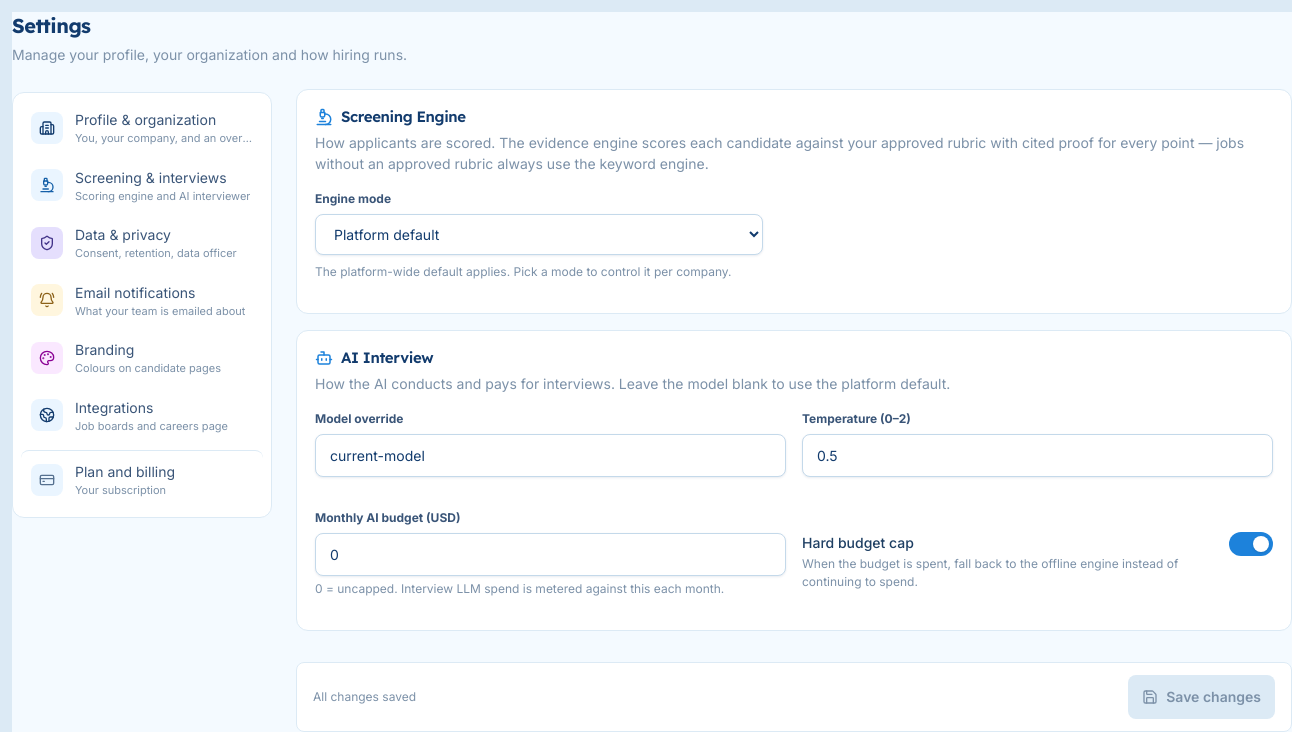
retains drafts across settings sections and saves the original nested contract
Replace the text in the field labelled "Model override" with "edited-model" at (550, 455), box [315,434,786,476]
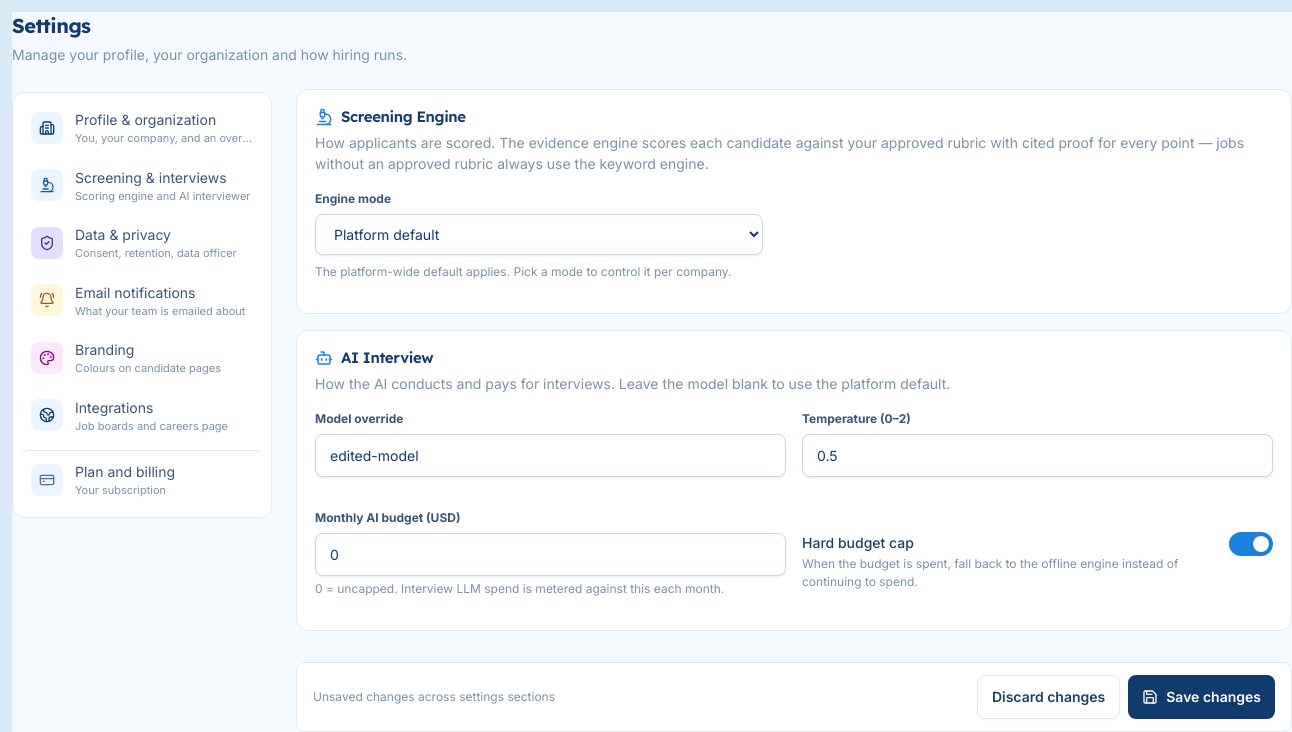
Click the link "Data & privacy".
click(142, 243)  # box [21,216,263,270]
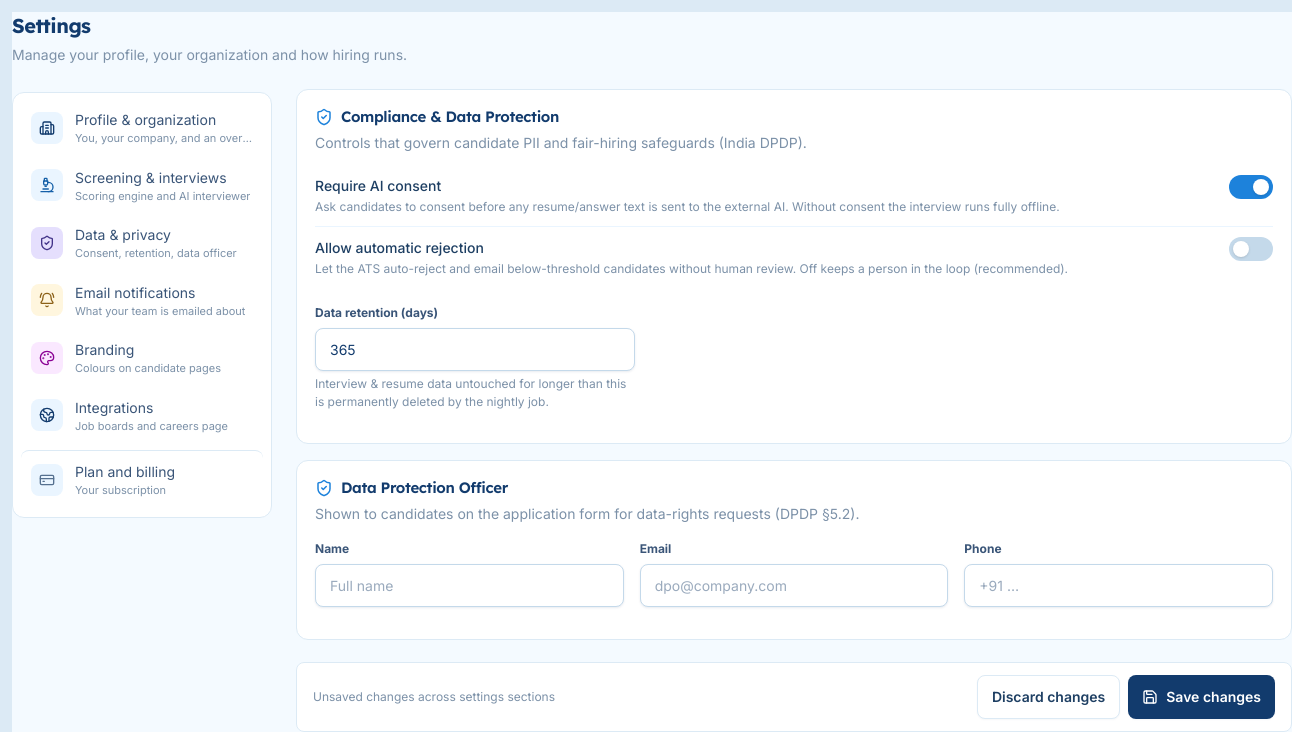
Now the message shows "Unsaved changes", box [313,689,555,704]
Now the label "Model override" is gone
Click the link "Screening & interviews".
click(142, 185)  # box [21,158,263,212]
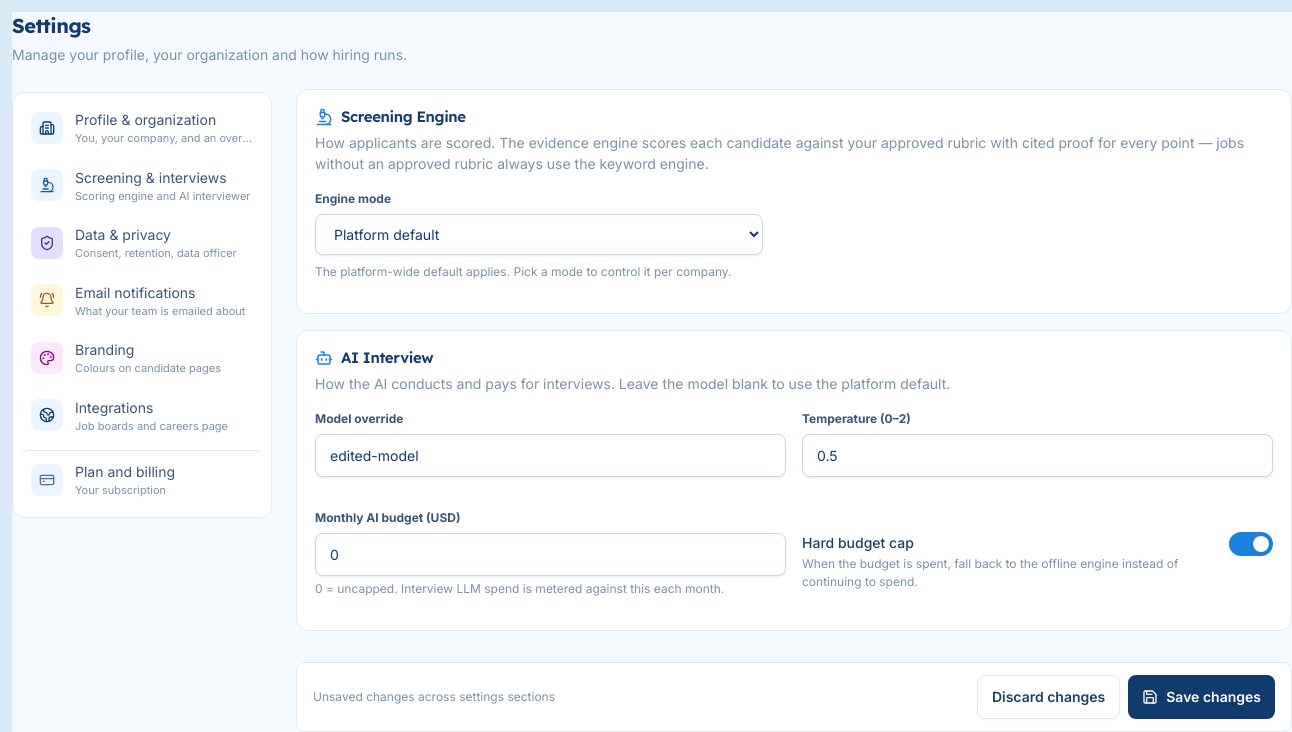
Click the button "Save changes".
click(1202, 697)  # box [1128,675,1275,719]
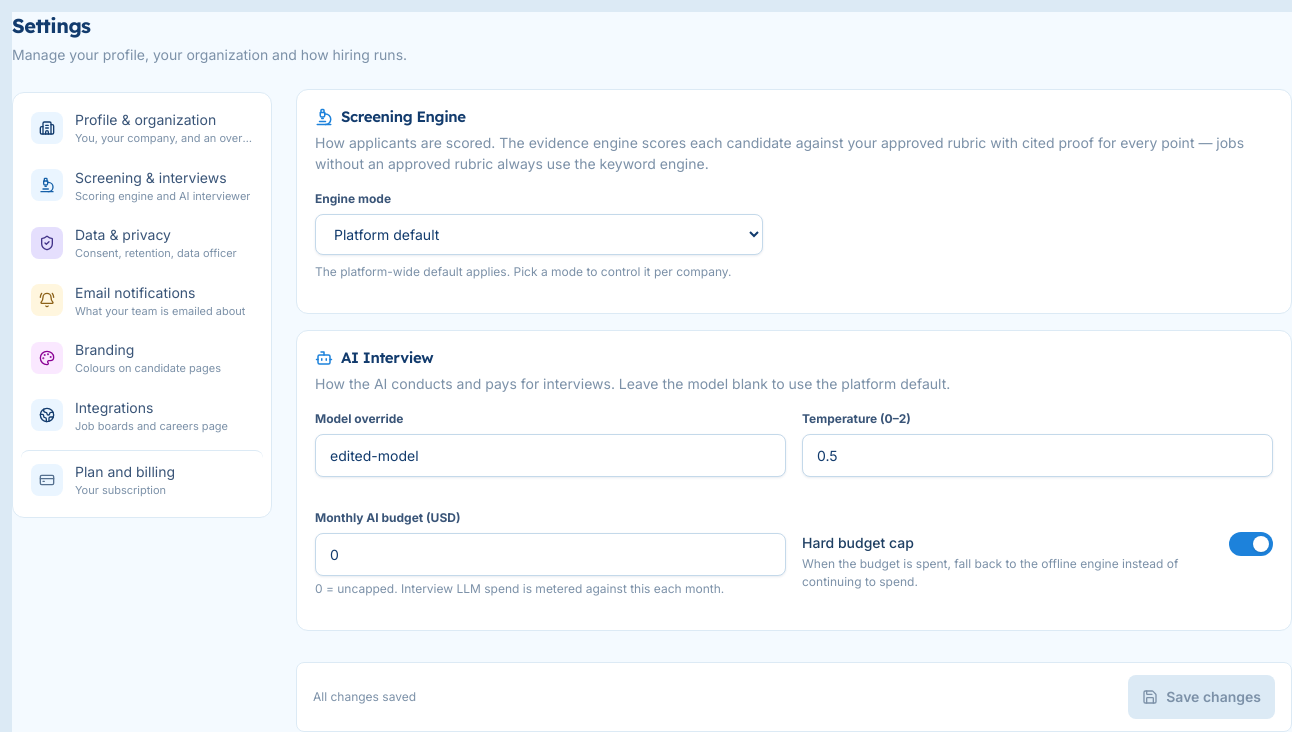
Now the button "Save changes" is disabled, box [1128,675,1275,719]
